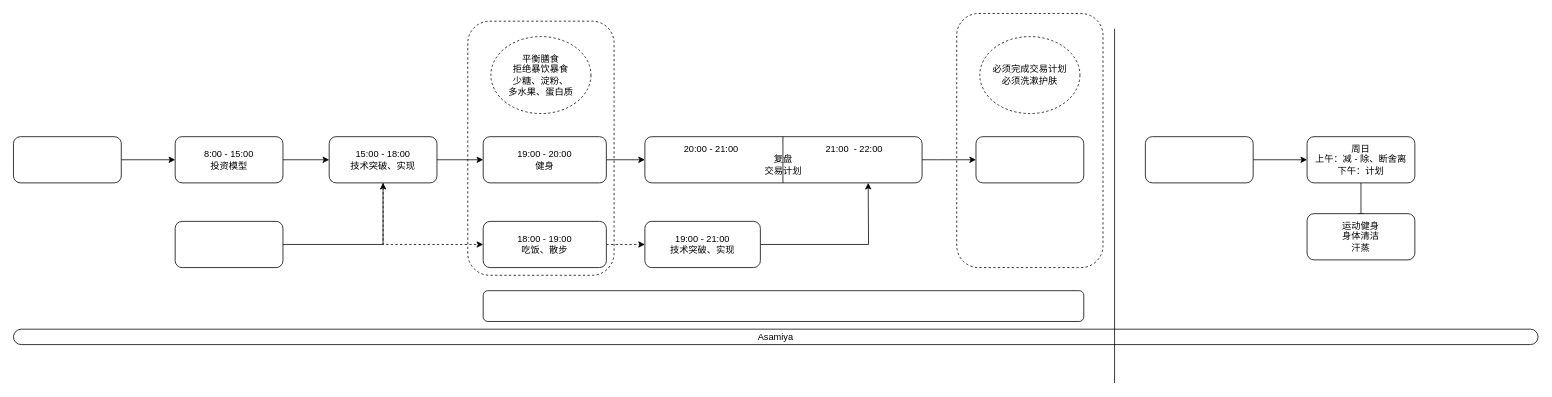
This 1552x397 diagram has some shape labels left out. Each missing label, with the centre of its shape:
22:00 - 23:00 洗漱 、皮肤、冥想 交易计划: [1029,159]
23:00 - 8:00 高质量休息 冥想: [67,159]
8:00 - 15:00 everyday 技术构思: [228,244]
周五：19:00 - 20:00 健身 - 聚餐 / 沟通 / 影视: [783,305]
周六 上午：床上好好休息 下午：爬山、徒步、沟通: [1199,159]
